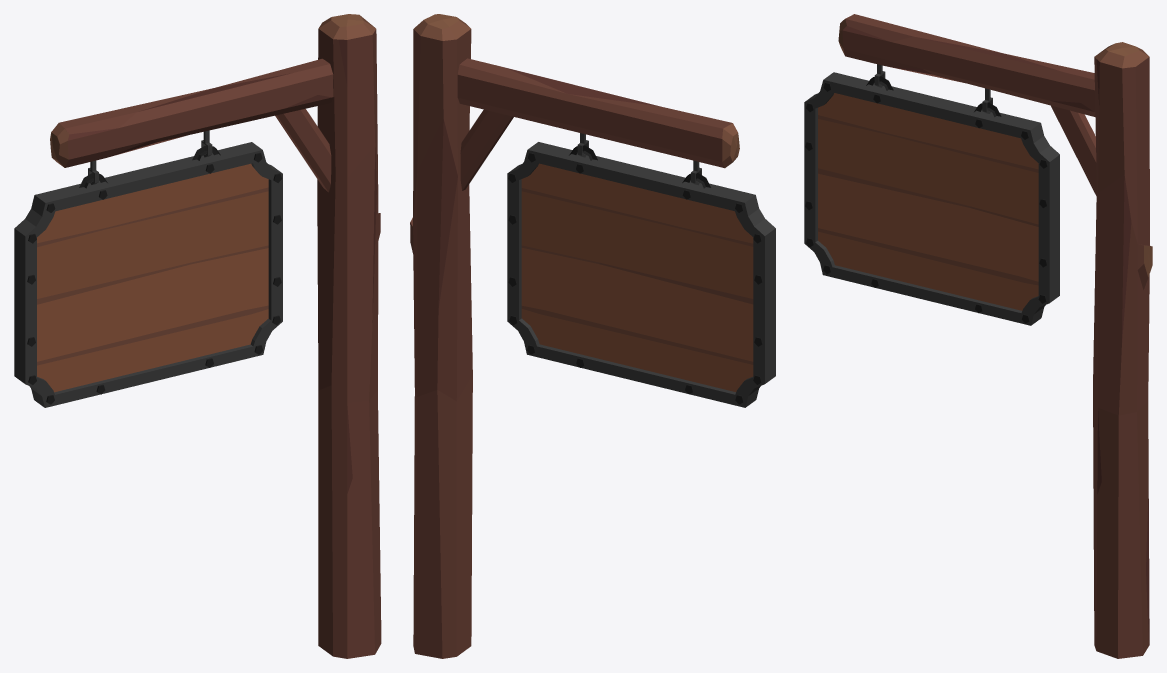
File: signboard_on_pole.fbx
The picture shows the model from 3 angles, left to right: view 1: azimuth 30°, elevation 25°; view 2: azimuth 150°, elevation 25°; view 3: azimuth 330°, elevation 25°; orthographic projection. The views are drawn at different scales.
Parts seen in each view (by area): view 1: signboard, pole; view 2: signboard, pole; view 3: signboard, pole.
Boxes of the visible parts, x1,y1,x2,y2 form: signboard: (14,142,282,407); pole: (50,14,381,658); signboard: (507,142,775,407); pole: (410,14,739,658); signboard: (804,72,1059,325); pole: (838,14,1152,658).
Size of the model in its own units: 130 by 219 by 19.51.
